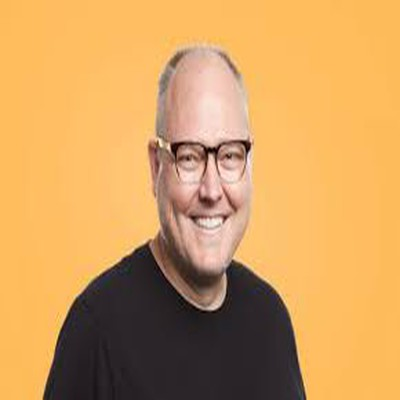eywear: (145, 112, 268, 191)
